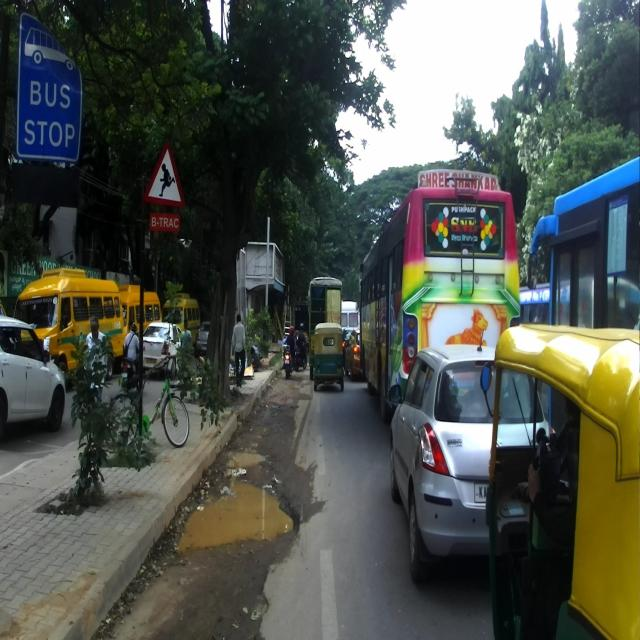autorickshaw: (478, 322, 638, 638)
bus: (359, 168, 521, 419), (526, 157, 639, 338)
car: (386, 345, 557, 582), (0, 315, 67, 435)
mini-bus: (14, 266, 125, 389)
